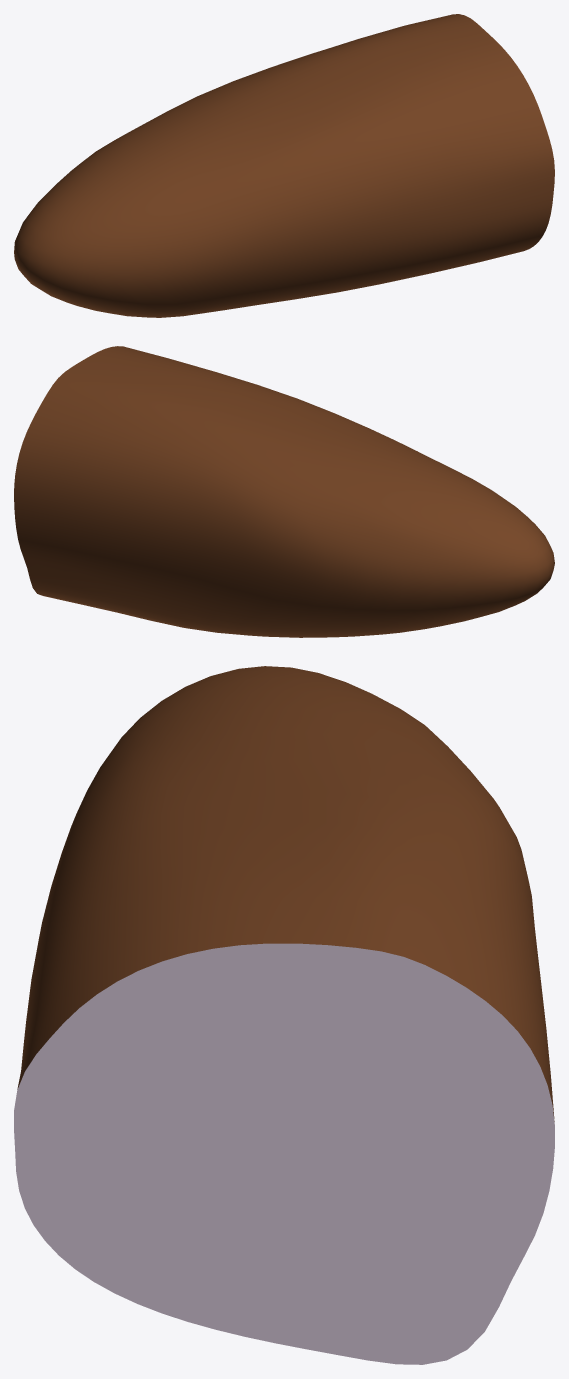
The model's file is HalfYam.fbx.
The picture shows the model from 3 angles, top to bottom: view 1: azimuth 30°, elevation 25°; view 2: azimuth 150°, elevation 25°; view 3: azimuth 270°, elevation 25°; orthographic projection. The views are drawn at different scales.
Visible parts, largest first — view 1: Cube; view 2: Cube; view 3: Cube.
Boxes of the visible parts, <box> form: Cube: <box>14,14,554,317</box>; Cube: <box>14,346,554,637</box>; Cube: <box>14,666,554,1364</box>.
Bounding box in the file's own units: 281 × 124 × 143.
